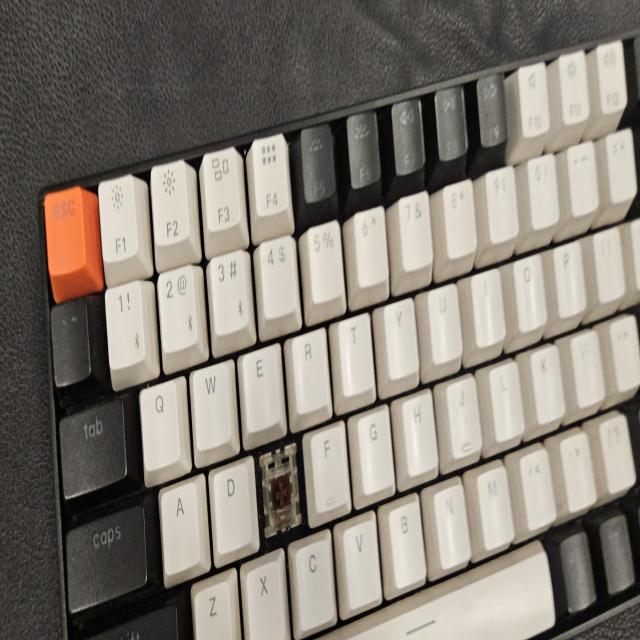C: (263, 459, 296, 536)
